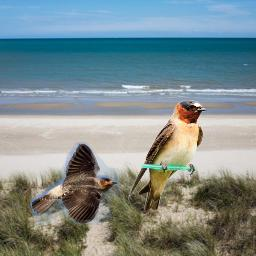Swallow: (128, 100, 206, 212), (30, 142, 120, 225)
